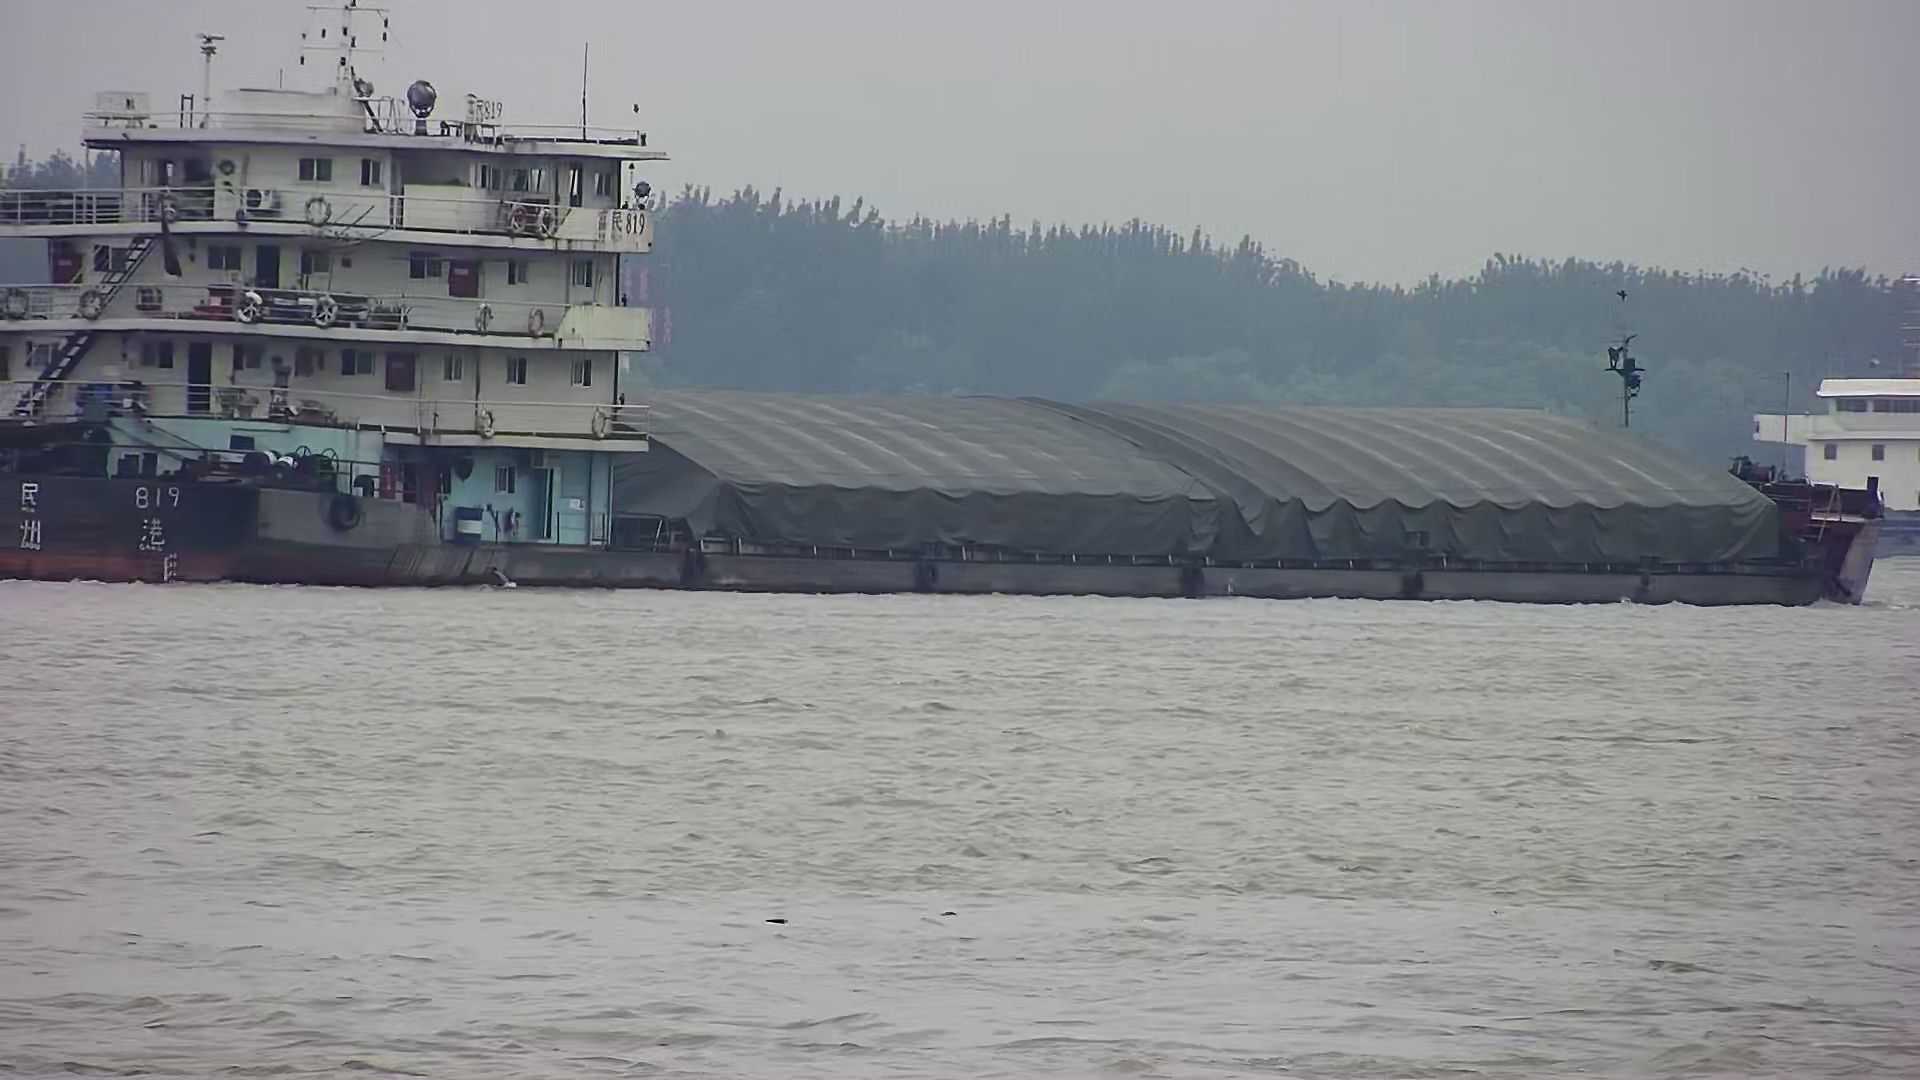ship: (1, 1, 1884, 603), (1743, 365, 1920, 559)
